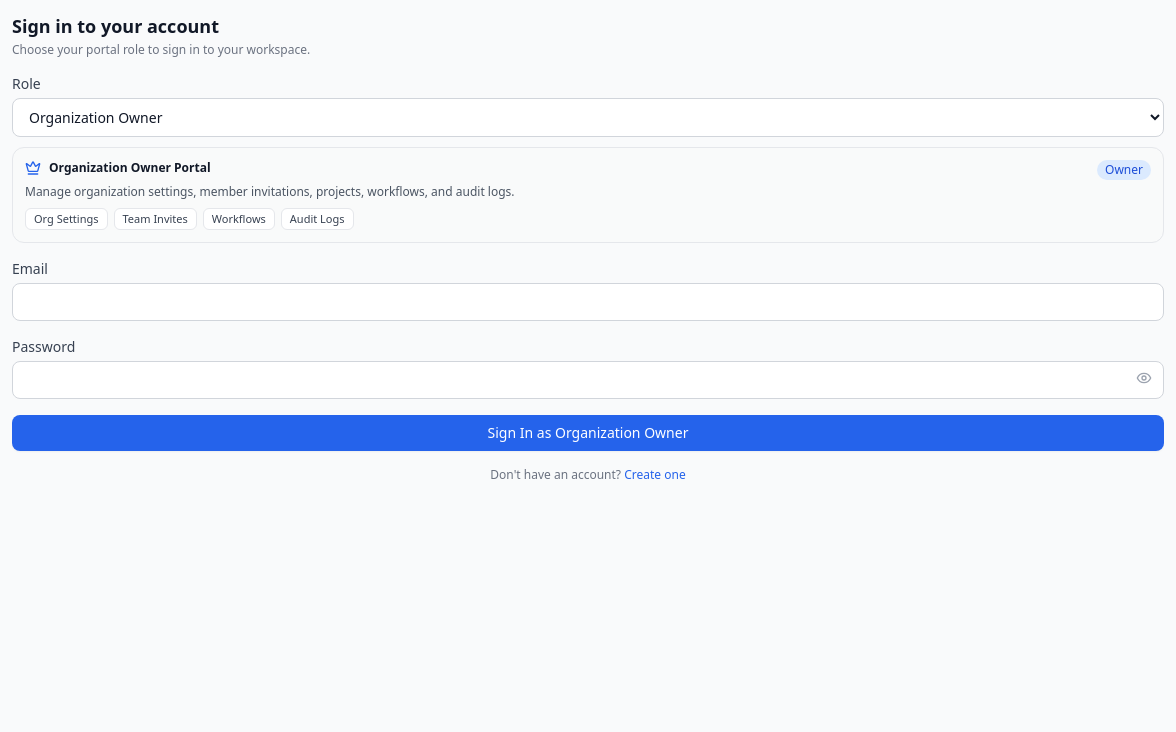
Test: Role-Based Login & Signup Flow › displays safe authentication error on invalid credentials
Type "alice@acme.com" into the field labelled "Email" at (588, 302), box top-left (12, 283), bottom-right (1164, 321)
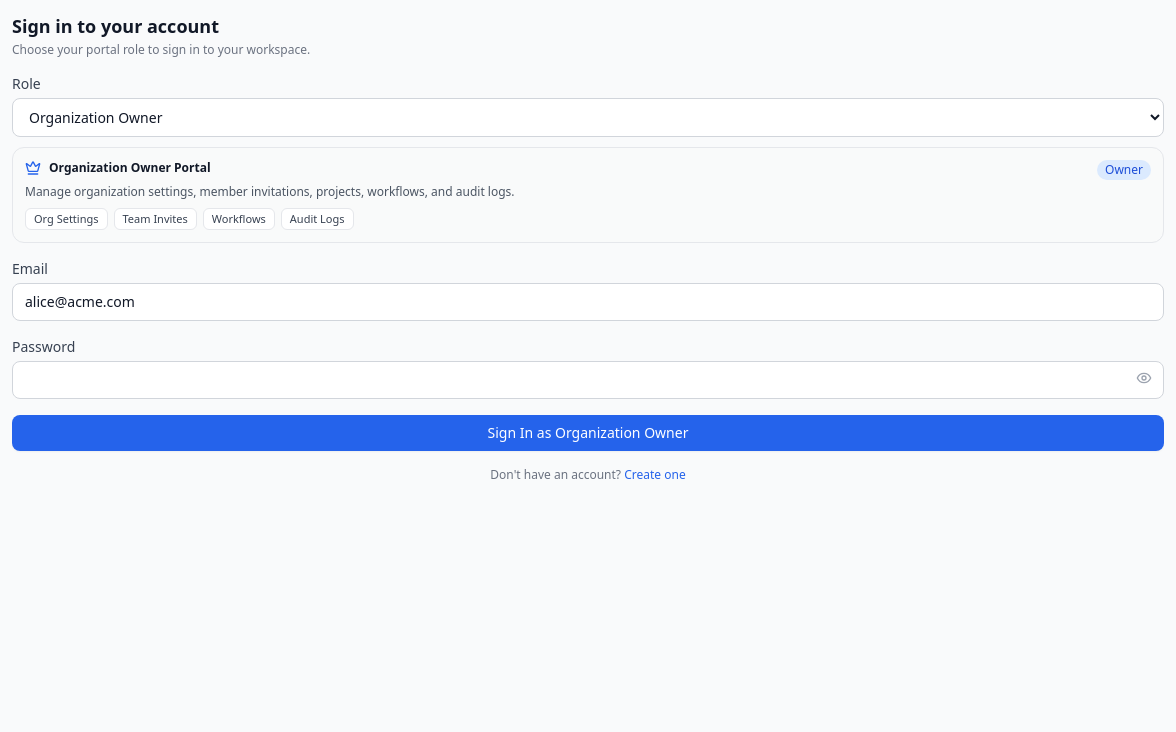
Type "wrongpass" into the password field labelled "Password" at (588, 380), box top-left (12, 361), bottom-right (1164, 399)
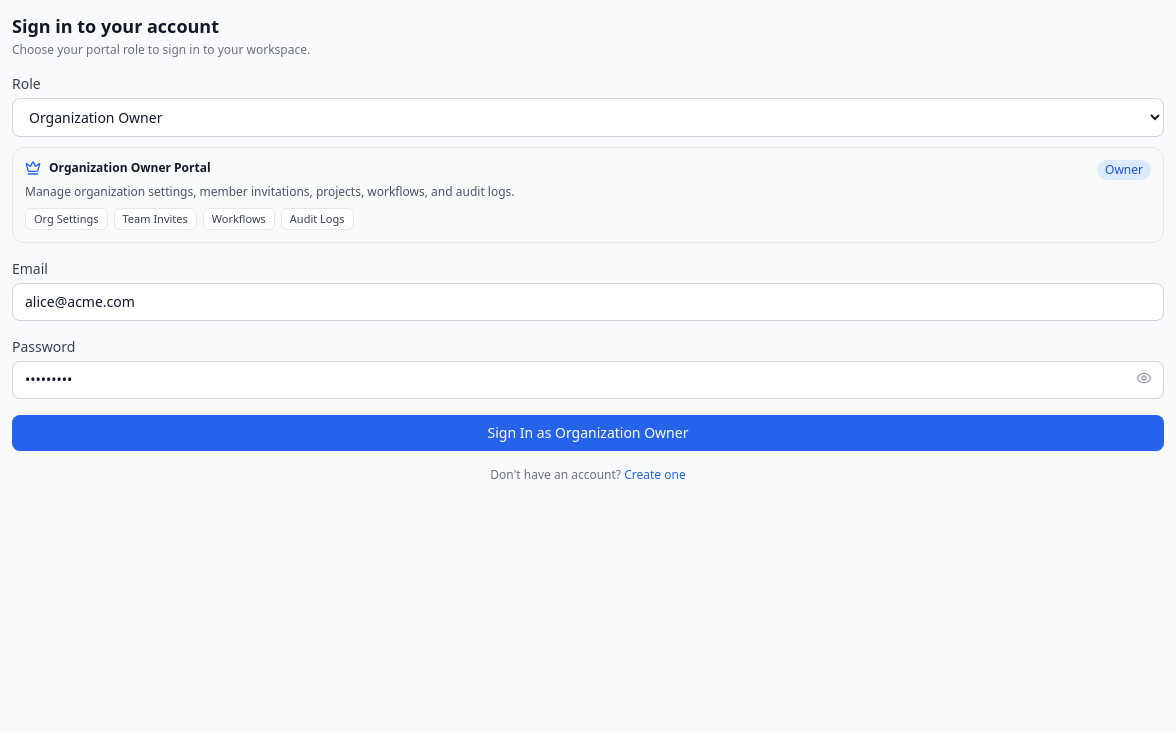
Click the button "Sign In as Organization Owner" at (588, 433), box top-left (12, 415), bottom-right (1164, 451)
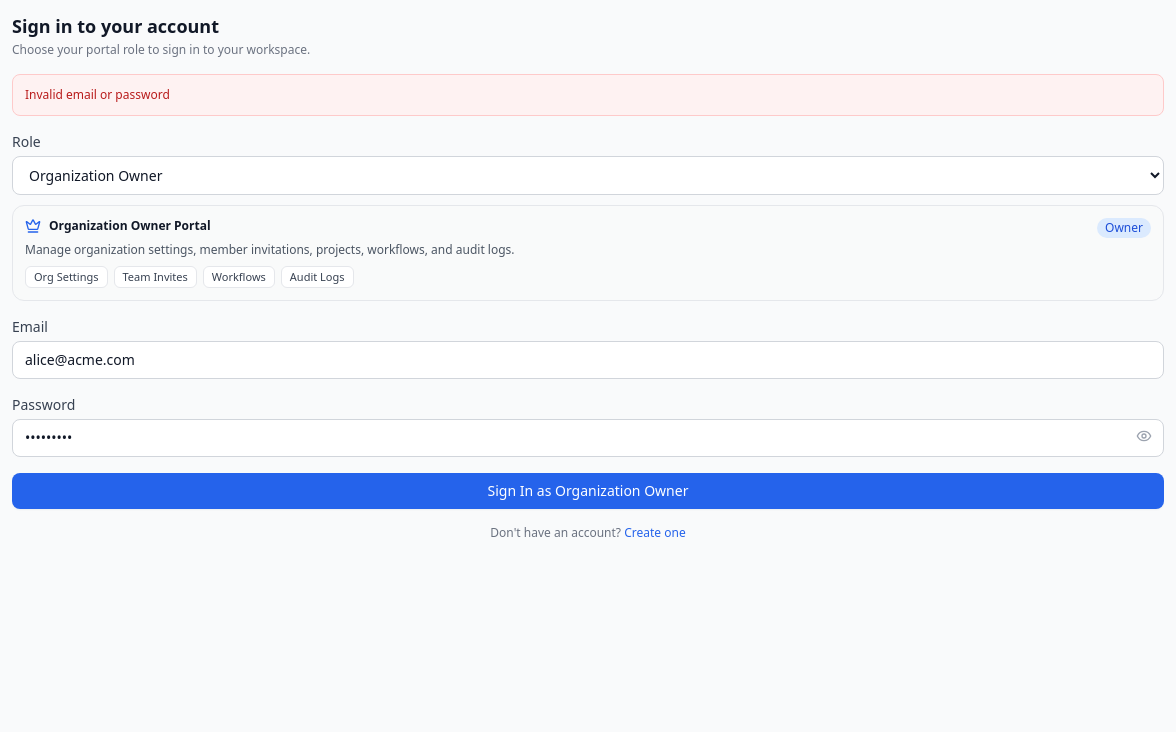
Result: the message reads "Invalid email or password" at top-left (25, 86), bottom-right (170, 103)
